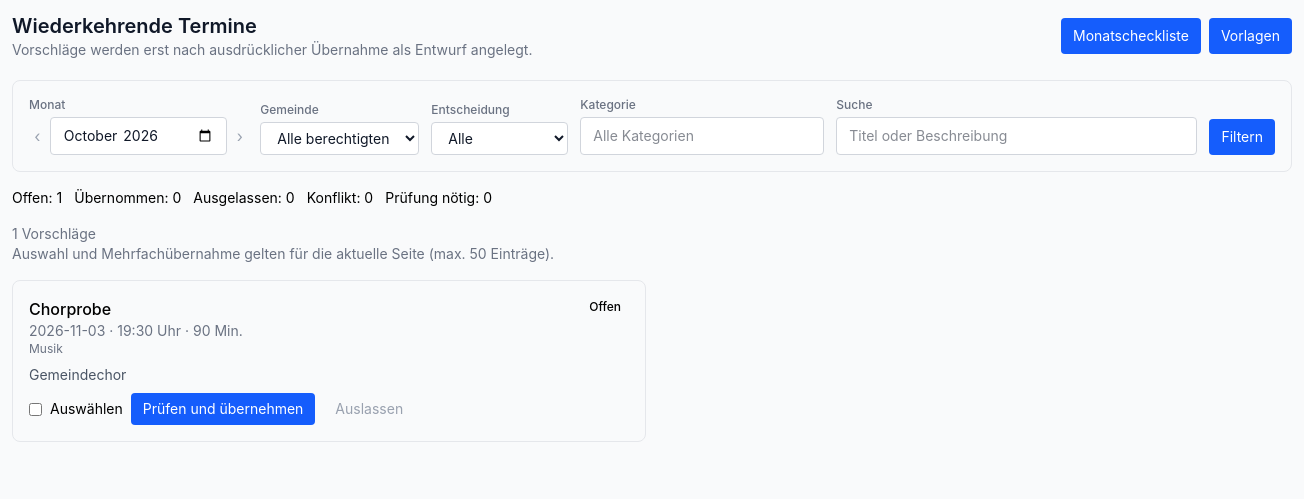
Test case: recurring monthly checklist › shows a safe localized message for unexpected invalid input errors
Step 1. Click the checkbox named "Chorprobe auswählen" → (36, 409), box [29, 402, 42, 416]
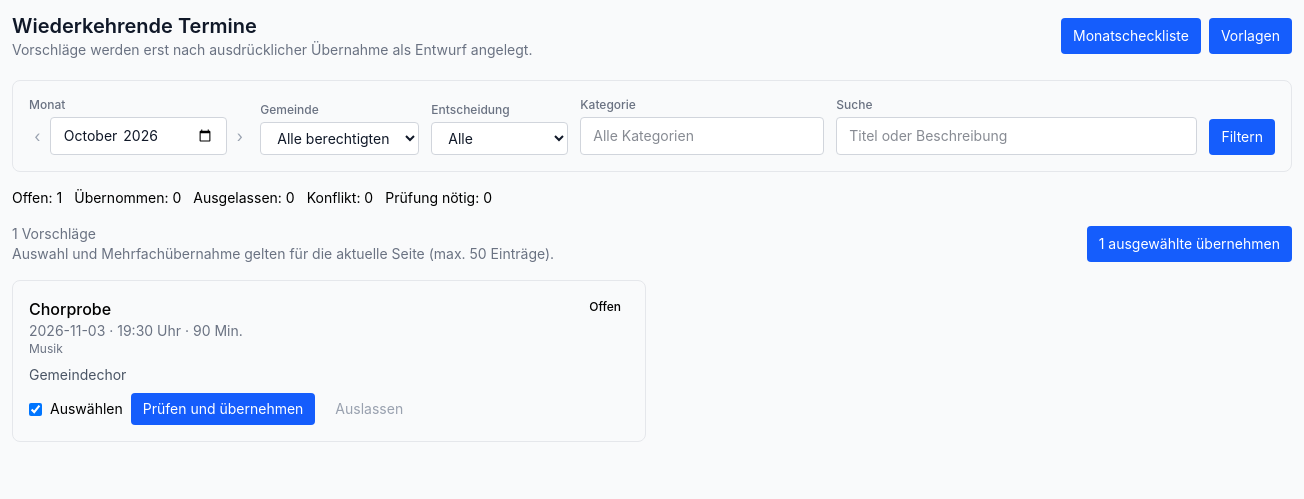
Step 2. Click the button "1 ausgewählte übernehmen" → (1189, 244), box [1087, 226, 1292, 262]
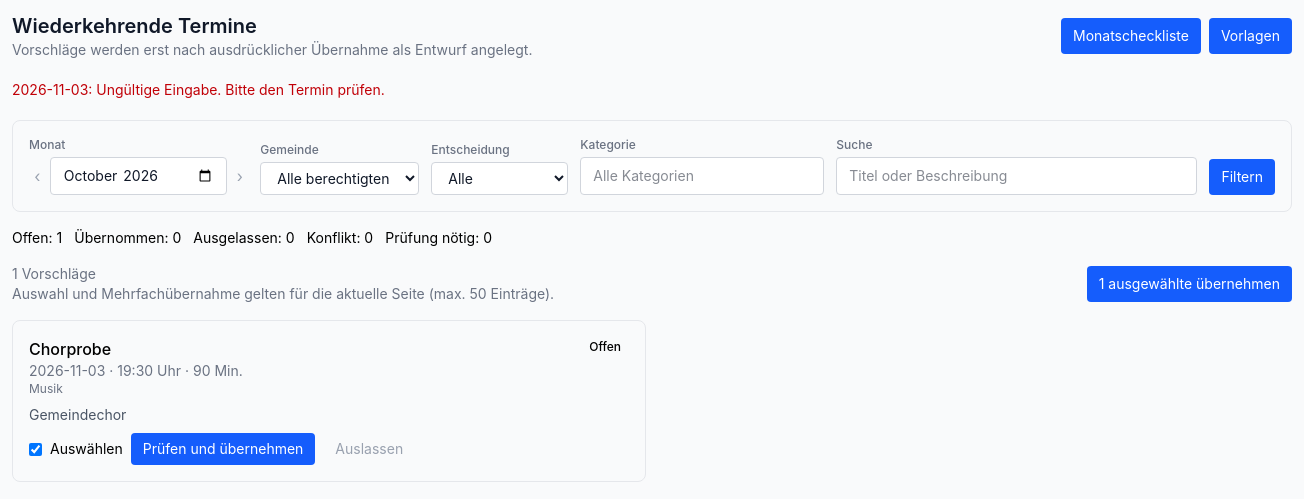
Result: the message "2026-11-03: Ungültige Eingabe. Bitte den Termin prüfen." is shown at [12, 81, 385, 98]
